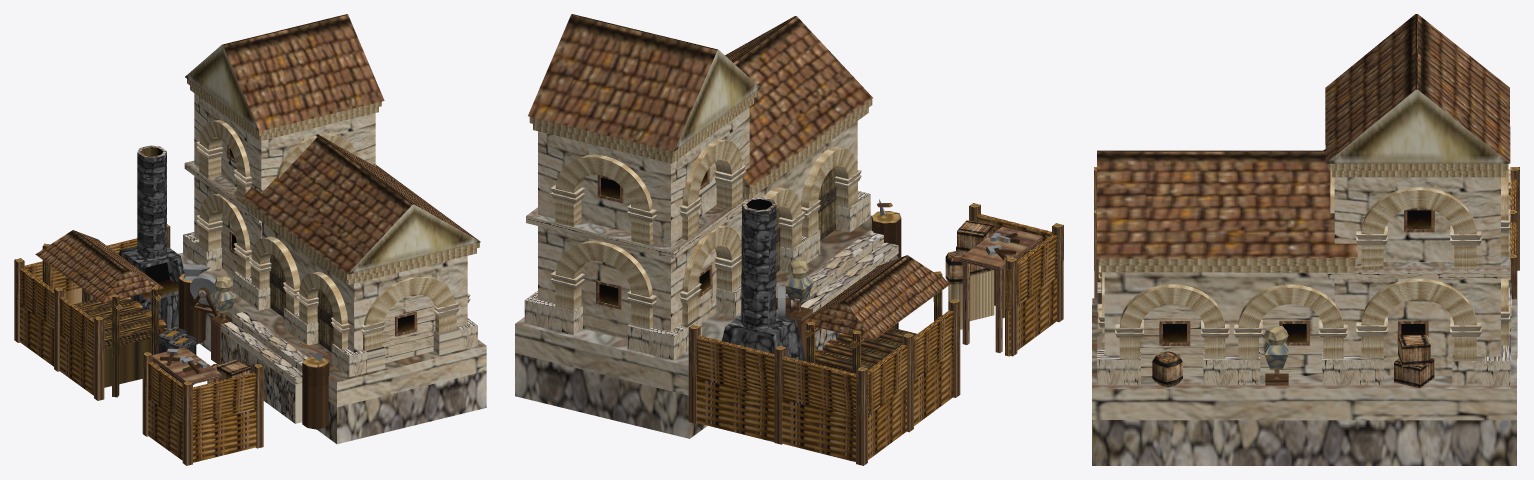
Rendered from forge.dae.
3 views of the same model, side by side, from view 1: azimuth 30°, elevation 25°; view 2: azimuth 150°, elevation 25°; view 3: azimuth 270°, elevation 25° (orthographic). The views are drawn at different scales.
Parts seen in each view (by area): view 1: forge; view 2: forge; view 3: forge.
Boxes of the visible parts, left/top/right/bottom form: forge: left=14, top=14, right=486, bottom=465; forge: left=515, top=14, right=1063, bottom=465; forge: left=1092, top=14, right=1519, bottom=465.
Size of the model in its own units: 19.08 by 18.97 by 18.73.
